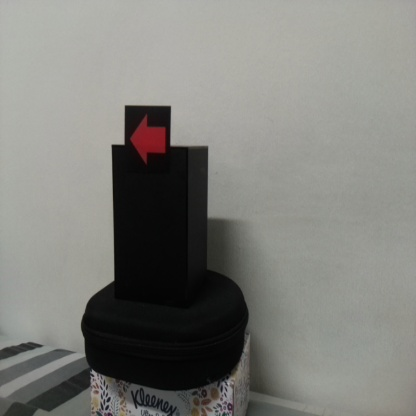id_4: (125, 108, 171, 173)
